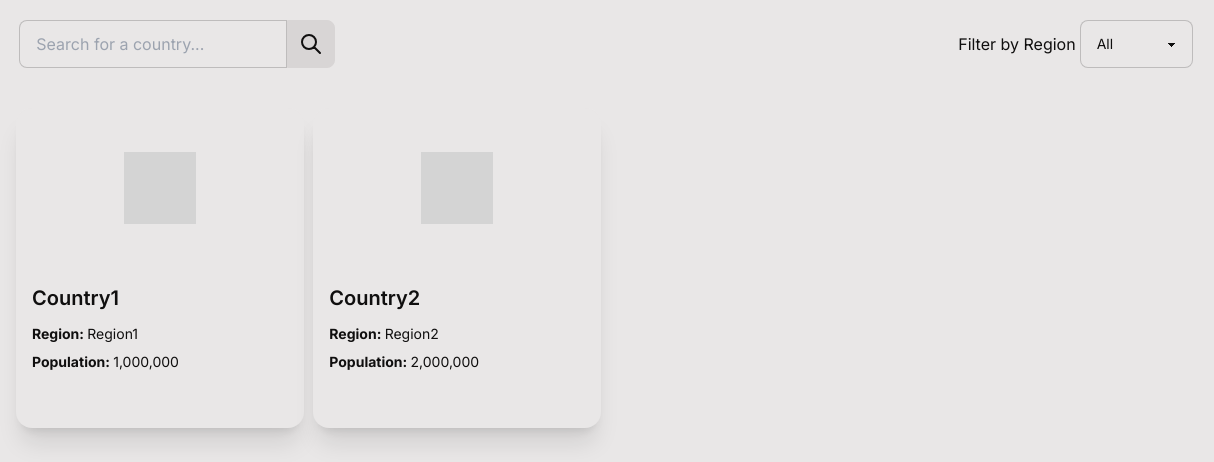
Scenario: Home component › filters countries by region
Expected: the link "Country1" is shown, left=32, top=284, right=119, bottom=312
Select "Region1" in the dropdown labelled "Filter by Region" at (1136, 44), box left=1080, top=20, right=1193, bottom=68
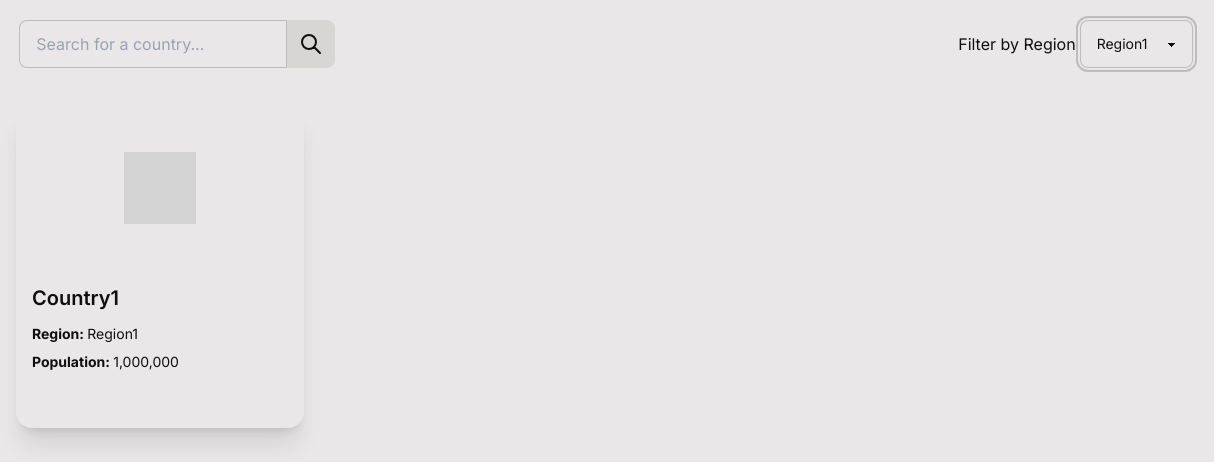
Expected: the link "Country1" is shown, left=32, top=284, right=119, bottom=312
Expected: the link "Country2" is gone
